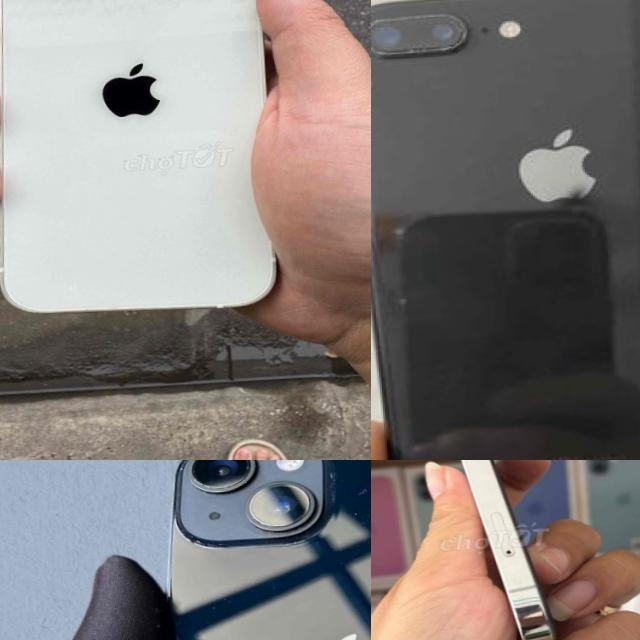gen_12_13: (0, 0, 296, 318), (395, 460, 553, 640)
gen_14: (108, 460, 371, 640)
gen_7_8: (371, 0, 640, 460)
scratch: (371, 7, 477, 61), (152, 582, 231, 640), (329, 460, 371, 542), (183, 460, 265, 497), (550, 182, 596, 208), (382, 288, 412, 312), (386, 223, 408, 243)
